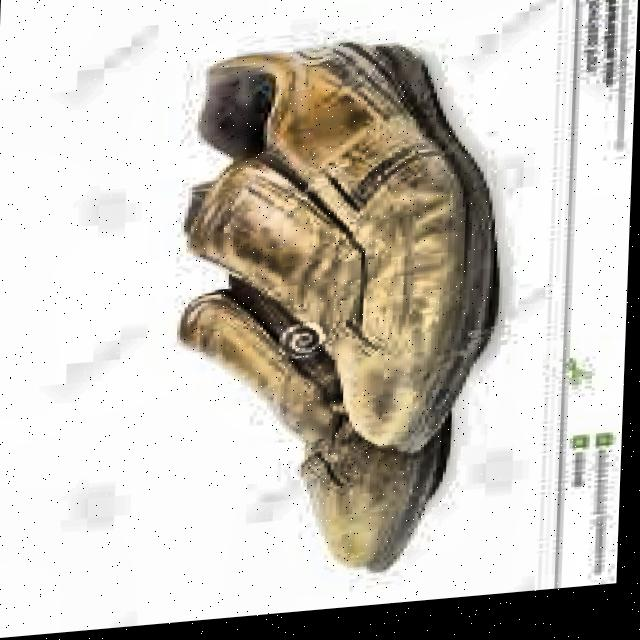shoes: (128, 2, 541, 611)
